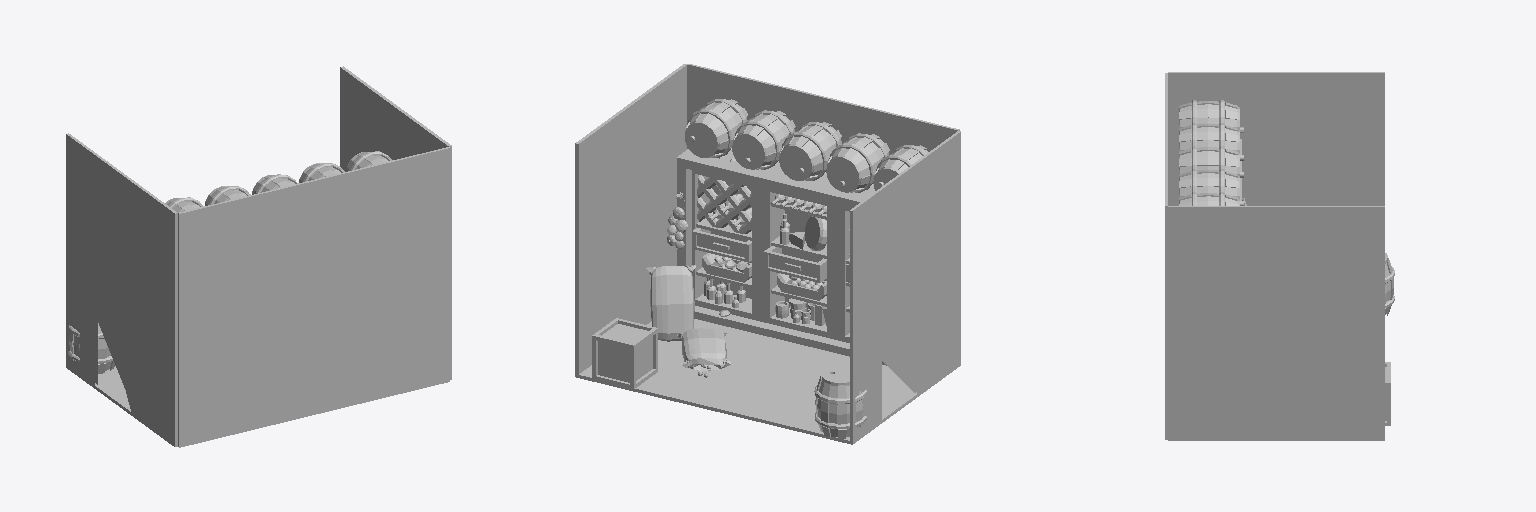
File: despensa.obj
3 renders of one model, left to right at view 1: azimuth 30°, elevation 25°; view 2: azimuth 150°, elevation 25°; view 3: azimuth 270°, elevation 25°, orthographic.
Visible parts, largest first — view 1: despensa:Paredes Despensa, Despensa pCylinder1, Despensa pCylinder19, Despensa pCylinder21, Despensa pCylinder22, Despensa pCylinder20; view 2: despensa:Paredes Despensa, Despensa pCube10, Despensa pCube11, Despensa pCube1, Despensa pCube5, Despensa pCylinder22, Despensa pCylinder20, Despensa pCylinder21, Despensa pCylinder19, Despensa pCylinder1, Despensa _polySurface1, Despensa pCube9 (+8 smaller); view 3: despensa:Paredes Despensa, Despensa pCylinder19, Despensa pCylinder21, Despensa pCylinder18, Despensa pCylinder20, Despensa pCylinder22.
Boxes of the visible parts, x1=… form: despensa:Paredes Despensa: x1=66, y1=66, x2=451, y2=447; Despensa pCylinder1: x1=68, y1=323, x2=114, y2=373; Despensa pCylinder19: x1=205, y1=186, x2=250, y2=205; Despensa pCylinder21: x1=299, y1=163, x2=344, y2=182; Despensa pCylinder22: x1=346, y1=151, x2=392, y2=171; Despensa pCylinder20: x1=252, y1=174, x2=298, y2=194; despensa:Paredes Despensa: x1=575, y1=64, x2=960, y2=444; Despensa pCube10: x1=692, y1=170, x2=850, y2=342; Despensa pCube11: x1=677, y1=149, x2=886, y2=365; Despensa pCube1: x1=592, y1=318, x2=657, y2=388; Despensa pCube5: x1=646, y1=265, x2=695, y2=341; Despensa pCylinder22: x1=685, y1=99, x2=747, y2=157; Despensa pCylinder20: x1=779, y1=122, x2=841, y2=180; Despensa pCylinder21: x1=732, y1=110, x2=795, y2=169; Despensa pCylinder19: x1=826, y1=133, x2=889, y2=192; Despensa pCylinder1: x1=814, y1=367, x2=866, y2=438; Despensa _polySurface1: x1=697, y1=156, x2=751, y2=233; Despensa pCube9: x1=677, y1=328, x2=730, y2=370; despensa:Paredes Despensa: x1=1165, y1=72, x2=1384, y2=440; Despensa pCylinder19: x1=1179, y1=123, x2=1243, y2=160; Despensa pCylinder21: x1=1179, y1=169, x2=1243, y2=205; Despensa pCylinder18: x1=1179, y1=100, x2=1243, y2=132; Despensa pCylinder20: x1=1179, y1=146, x2=1243, y2=177; Despensa pCylinder22: x1=1179, y1=192, x2=1239, y2=205.
Size of the model in its own units: 61.08 by 48.73 by 43.55.